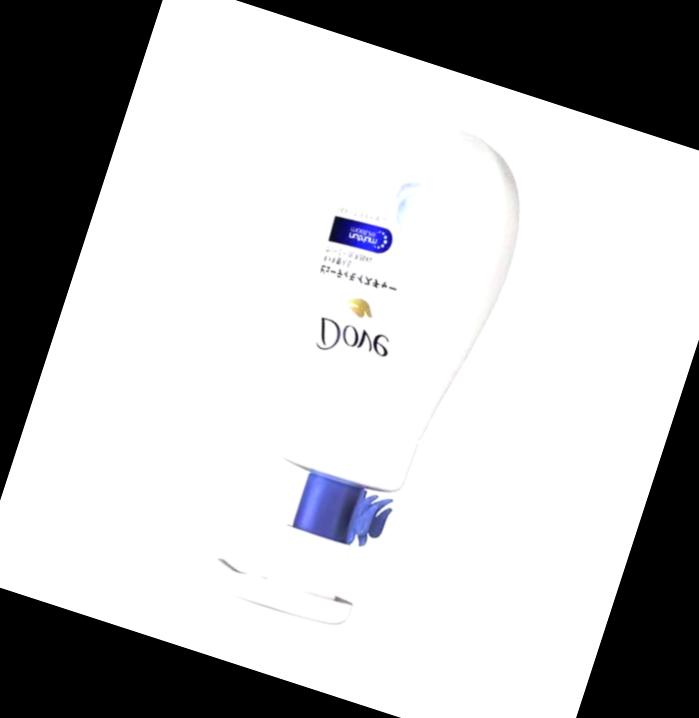cosmetic: (190, 89, 551, 651)
